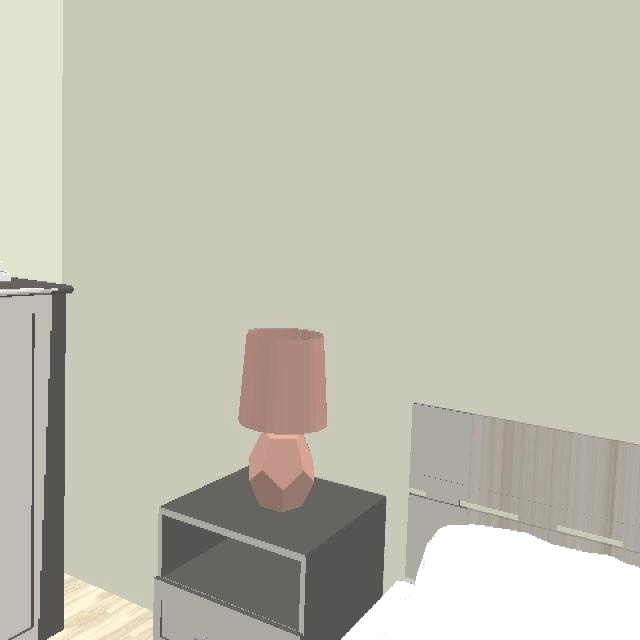bed: (346, 403, 640, 638)
cabinet: (0, 272, 74, 638)
lamp: (239, 328, 326, 511)
nighttable: (154, 468, 383, 638)
